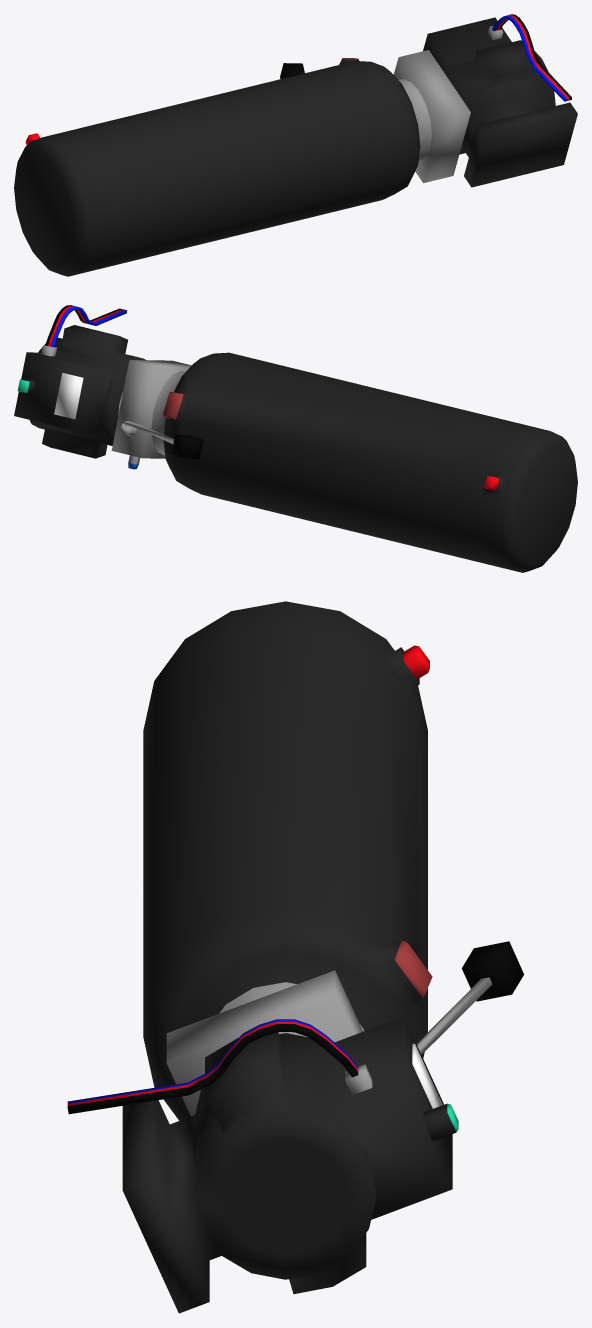
The model's file is Hydraulics.fbx.
3 views of the same model, one above another, from view 1: azimuth 30°, elevation 25°; view 2: azimuth 150°, elevation 25°; view 3: azimuth 270°, elevation 25° (orthographic). The views are drawn at different scales.
Parts seen in each view (by area): view 1: Cylinder.001; view 2: Cylinder.001; view 3: Cylinder.001.
Part boxes in pixels (x1,y1,x2,y2): Cylinder.001: [14, 14, 577, 276]; Cylinder.001: [14, 305, 577, 572]; Cylinder.001: [67, 601, 523, 1313].
Size of the model in its own units: 1.76 by 0.4859 by 0.706.
